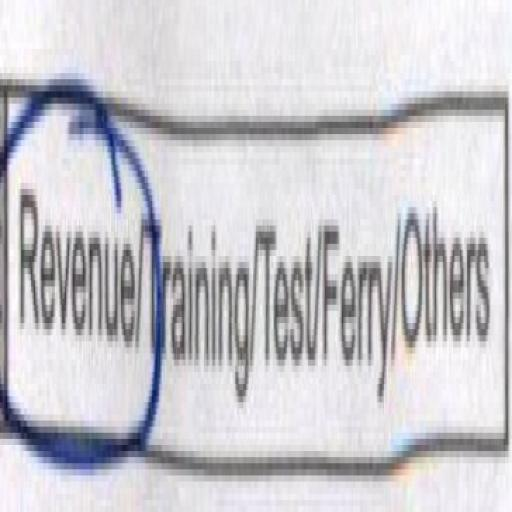check: (1, 17, 147, 512)
